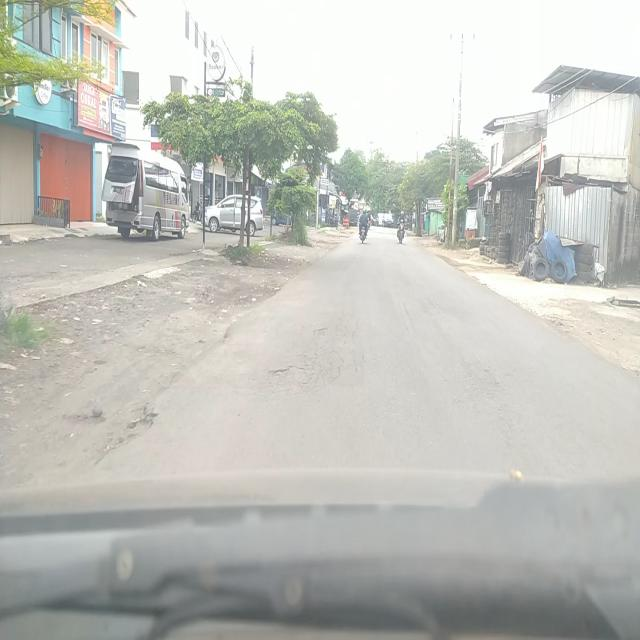Drain Hole: (269, 319, 366, 393)
